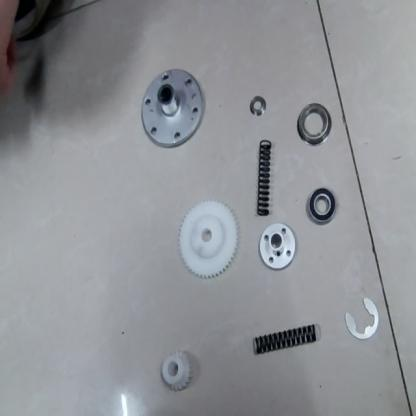FOD: (175, 198, 239, 283), (142, 68, 204, 148), (247, 322, 318, 359), (341, 288, 381, 343), (257, 220, 296, 271), (294, 101, 334, 148), (158, 350, 194, 394), (254, 137, 274, 216), (306, 184, 339, 225), (248, 96, 267, 118)
